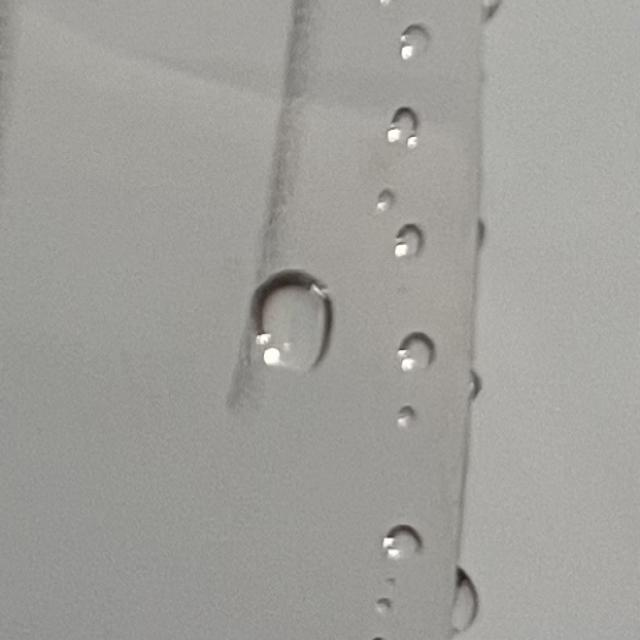raindrop: (235, 267, 336, 383), (440, 547, 484, 626), (372, 514, 431, 560), (385, 220, 436, 273), (390, 327, 438, 381), (383, 99, 433, 148), (396, 20, 438, 68), (389, 388, 426, 431), (460, 365, 482, 420), (369, 188, 405, 216), (372, 596, 394, 624)
